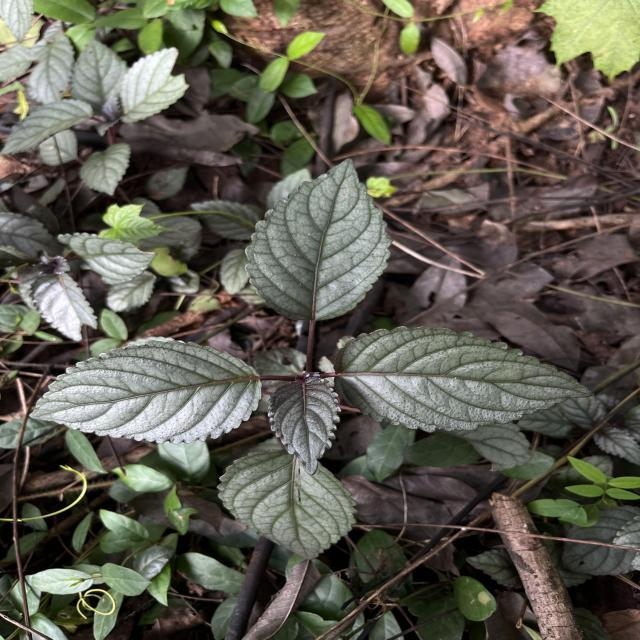Hemigraphis colorata: (332, 322, 598, 436), (242, 154, 398, 327), (27, 337, 263, 447), (213, 444, 361, 560), (264, 375, 346, 477)
